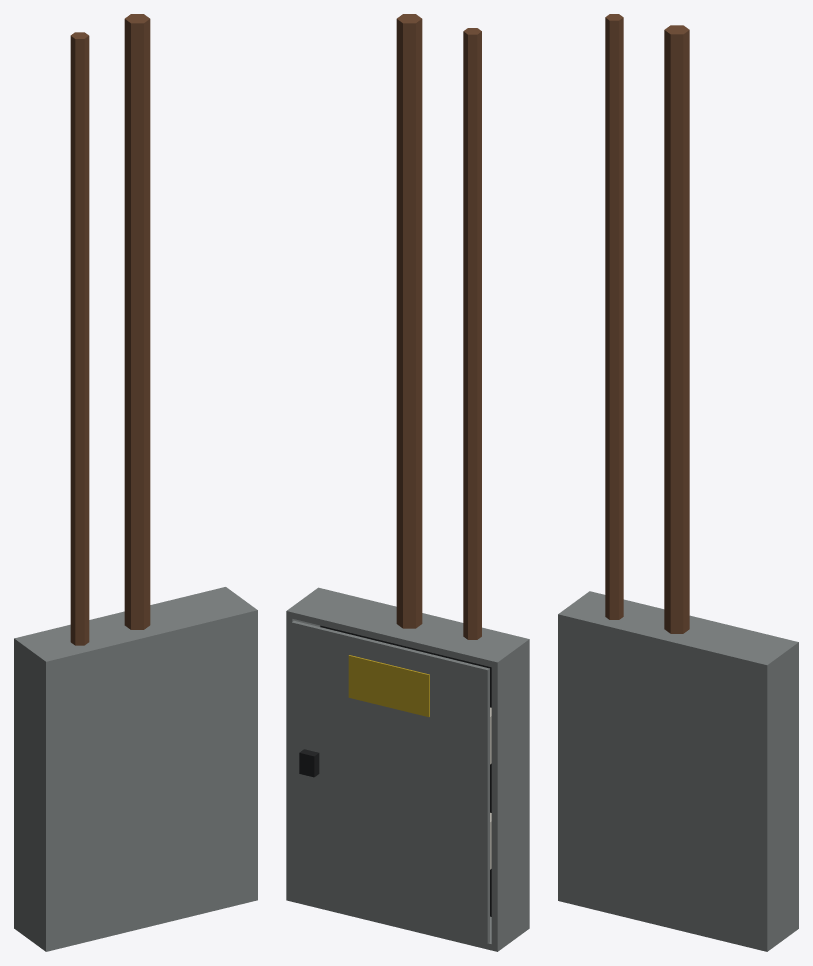
Rendered from elec_panel.fbx.
The picture shows the model from 3 angles, left to right: view 1: azimuth 30°, elevation 25°; view 2: azimuth 150°, elevation 25°; view 3: azimuth 330°, elevation 25°; orthographic projection.
Parts seen in each view (by area): view 1: elec_panel; view 2: elec_panel_door, elec_panel; view 3: elec_panel.
Part boxes in pixels (x1,y1,x2,y2): elec_panel: (14, 14, 257, 951); elec_panel_door: (291, 620, 489, 943); elec_panel: (286, 14, 529, 951); elec_panel: (558, 14, 798, 951).
Size of the model in its own units: 0.42 by 1.7 by 0.135.
